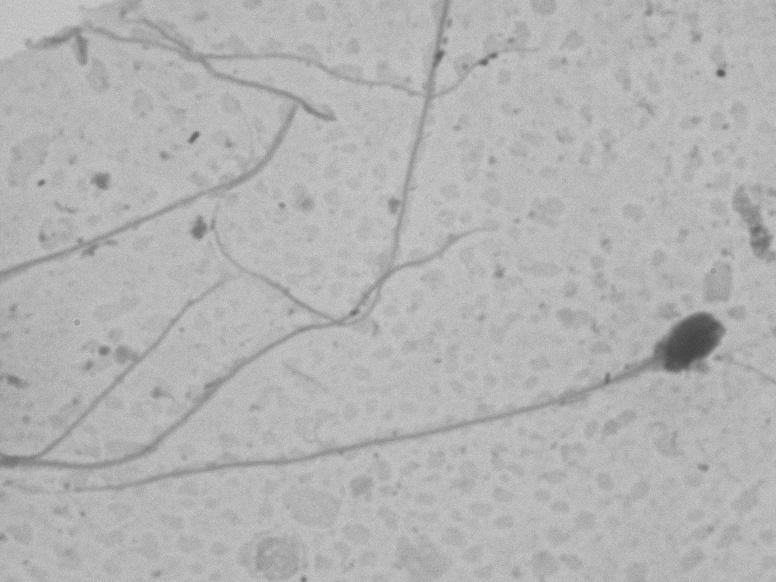Abnormal: (10, 298, 739, 521)
